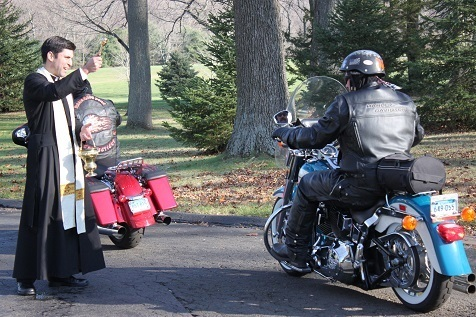helmet: (337, 48, 389, 88)
